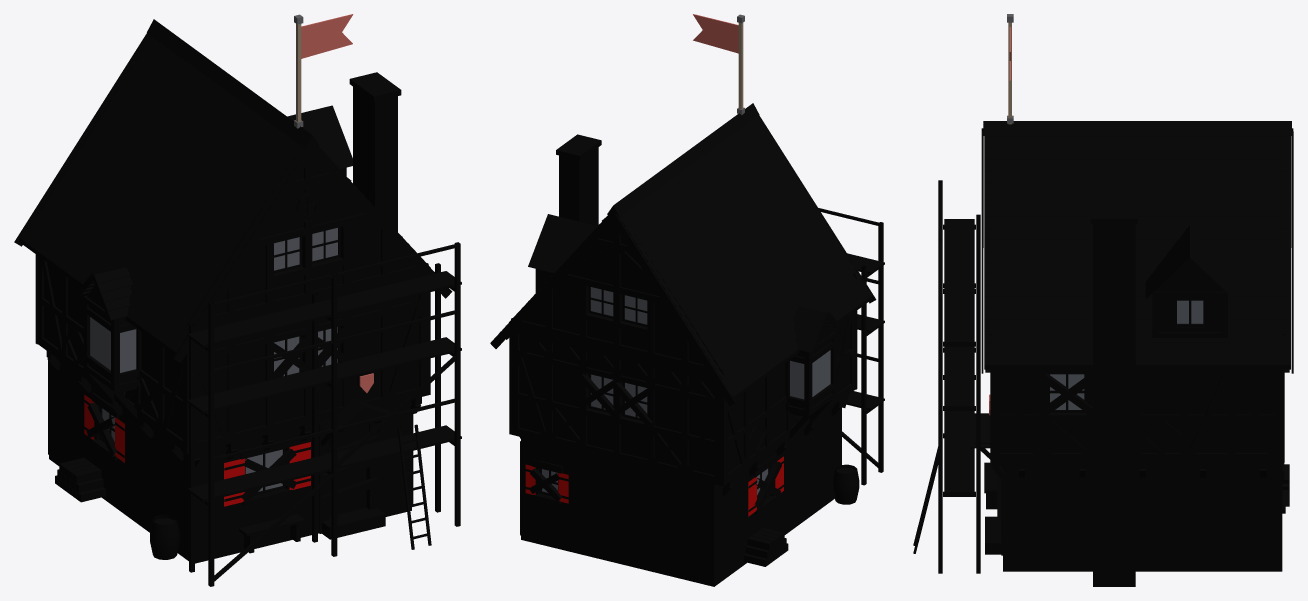
The model's file is wohnhaus_halbling_s2_g4.glb.
3 views of the same model, side by side, from view 1: azimuth 30°, elevation 25°; view 2: azimuth 150°, elevation 25°; view 3: azimuth 270°, elevation 25° (orthographic). The views are drawn at different scales.
Visible parts, largest first — view 1: Haus, Dach, Geruest, Scheiben, Leerstand, Fahne; view 2: Haus, Dach, Geruest, Scheiben, Leerstand, Fahne; view 3: Dach, Haus, Geruest, Leerstand, Scheiben, Fahne.
Part boxes in pixels (x1,y1,x2,y2): Haus: (35,37,430,563); Dach: (14,19,452,362); Geruest: (187,242,461,586); Scheiben: (90,228,337,491); Leerstand: (86,326,378,504); Fahne: (294,14,353,128); Haus: (509,118,859,586); Dach: (490,103,876,406); Geruest: (818,208,884,485); Scheiben: (542,287,830,495); Leerstand: (529,374,781,508); Fahne: (693,14,744,114); Dach: (981,121,1293,373); Haus: (970,137,1285,586); Geruest: (913,180,980,573); Leerstand: (985,369,1289,519); Scheiben: (1050,300,1203,409); Fahne: (1007,14,1013,124).
Size of the model in its own units: 7.04 by 11.75 by 8.03.
